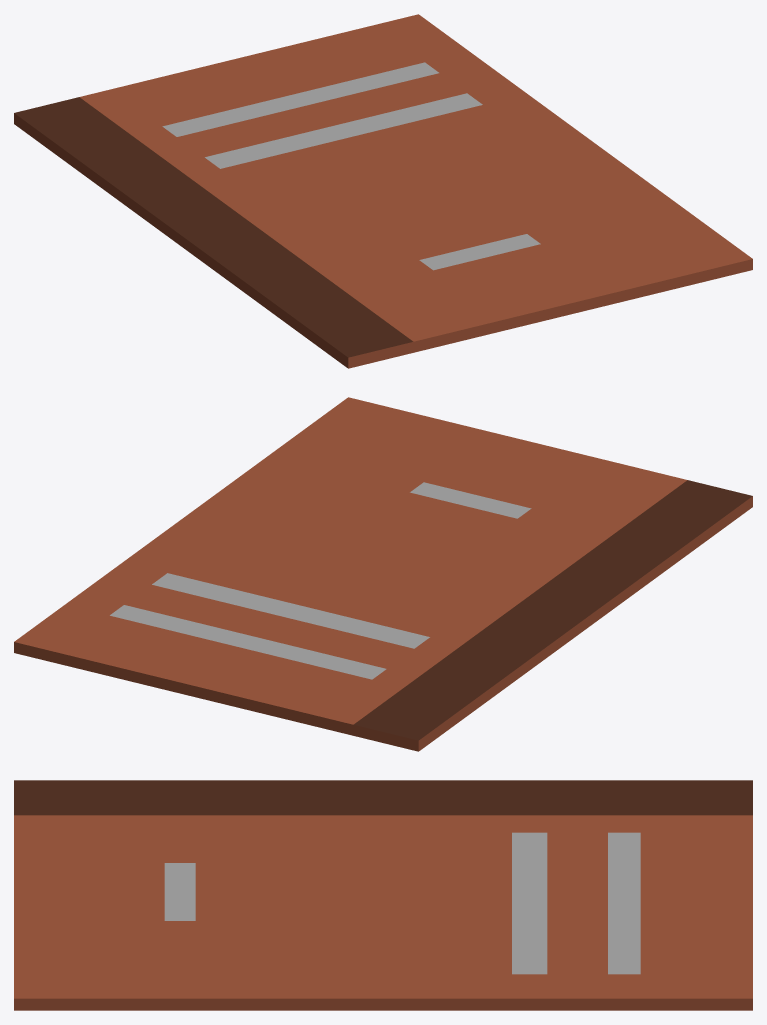
The picture shows the model from 3 angles, top to bottom: view 1: azimuth 30°, elevation 25°; view 2: azimuth 150°, elevation 25°; view 3: azimuth 270°, elevation 25°; orthographic projection. The views are drawn at different scales.
Parts seen in each view (by area): view 1: bijiben:pPlane1; view 2: bijiben:pPlane1; view 3: bijiben:pPlane1.
Part boxes in pixels (<box>): bijiben:pPlane1: <box>14,14,752,368</box>; bijiben:pPlane1: <box>14,397,752,751</box>; bijiben:pPlane1: <box>14,780,752,1010</box>.
Bounding box in the file's own units: 18.16 × 0.4744 × 25.98.
